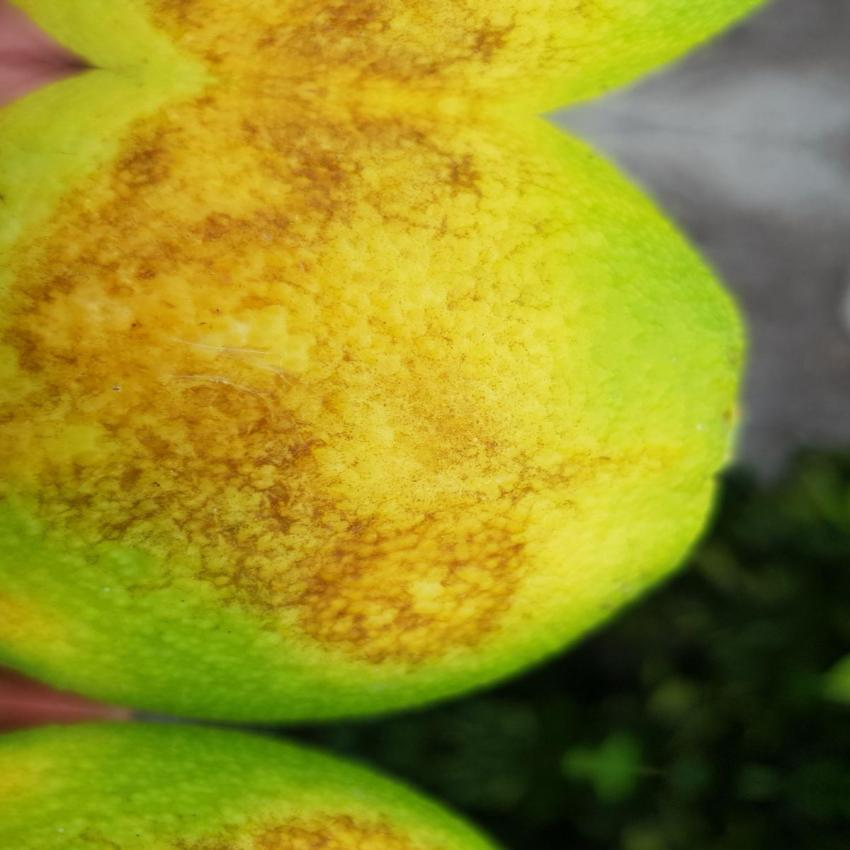Mal estado: (0, 70, 749, 728)
